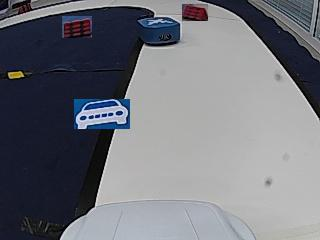prop: (137, 17, 181, 47)
